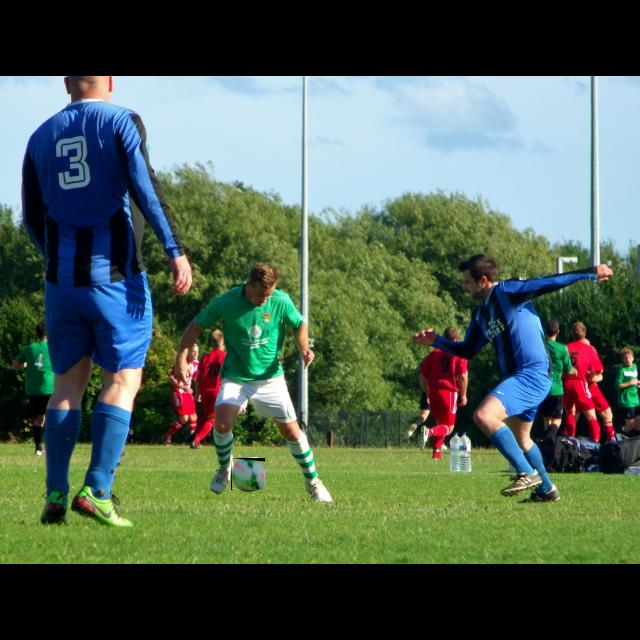Football: (231, 458, 265, 490)
